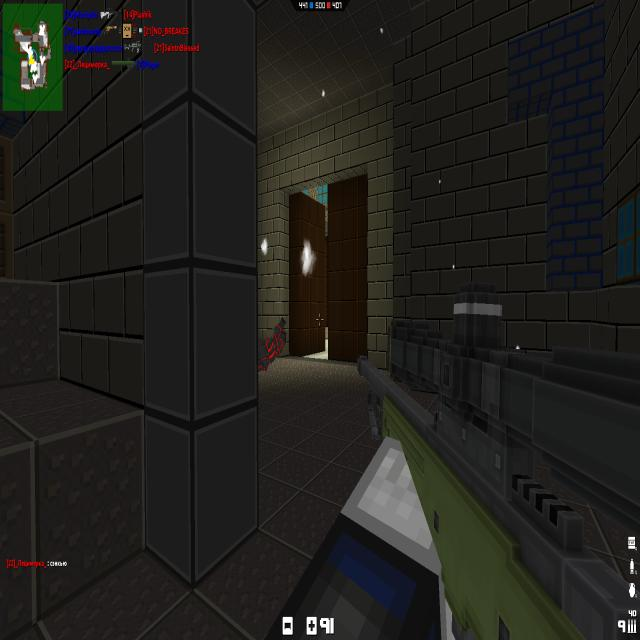player: (260, 319, 286, 368)
